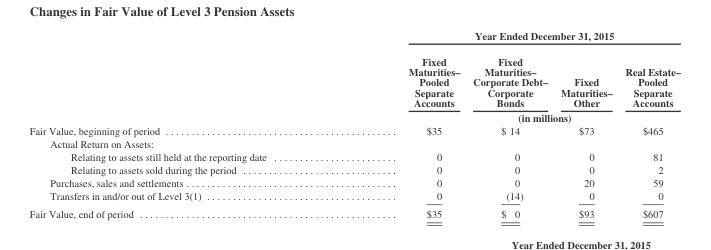table: (28, 29, 679, 219)
table column: (28, 29, 336, 219), (336, 29, 465, 219), (465, 29, 553, 219), (553, 29, 618, 219), (618, 29, 679, 219)
table column header: (28, 29, 679, 124)
table projected row header: (28, 137, 679, 150)
table row: (28, 47, 679, 109), (28, 29, 679, 47), (28, 188, 679, 204), (28, 109, 679, 124), (28, 204, 679, 219), (28, 124, 679, 137), (28, 137, 679, 150), (28, 150, 679, 163), (28, 175, 679, 188), (28, 163, 679, 175)
table spanning cell: (336, 29, 679, 47), (336, 109, 679, 124)
